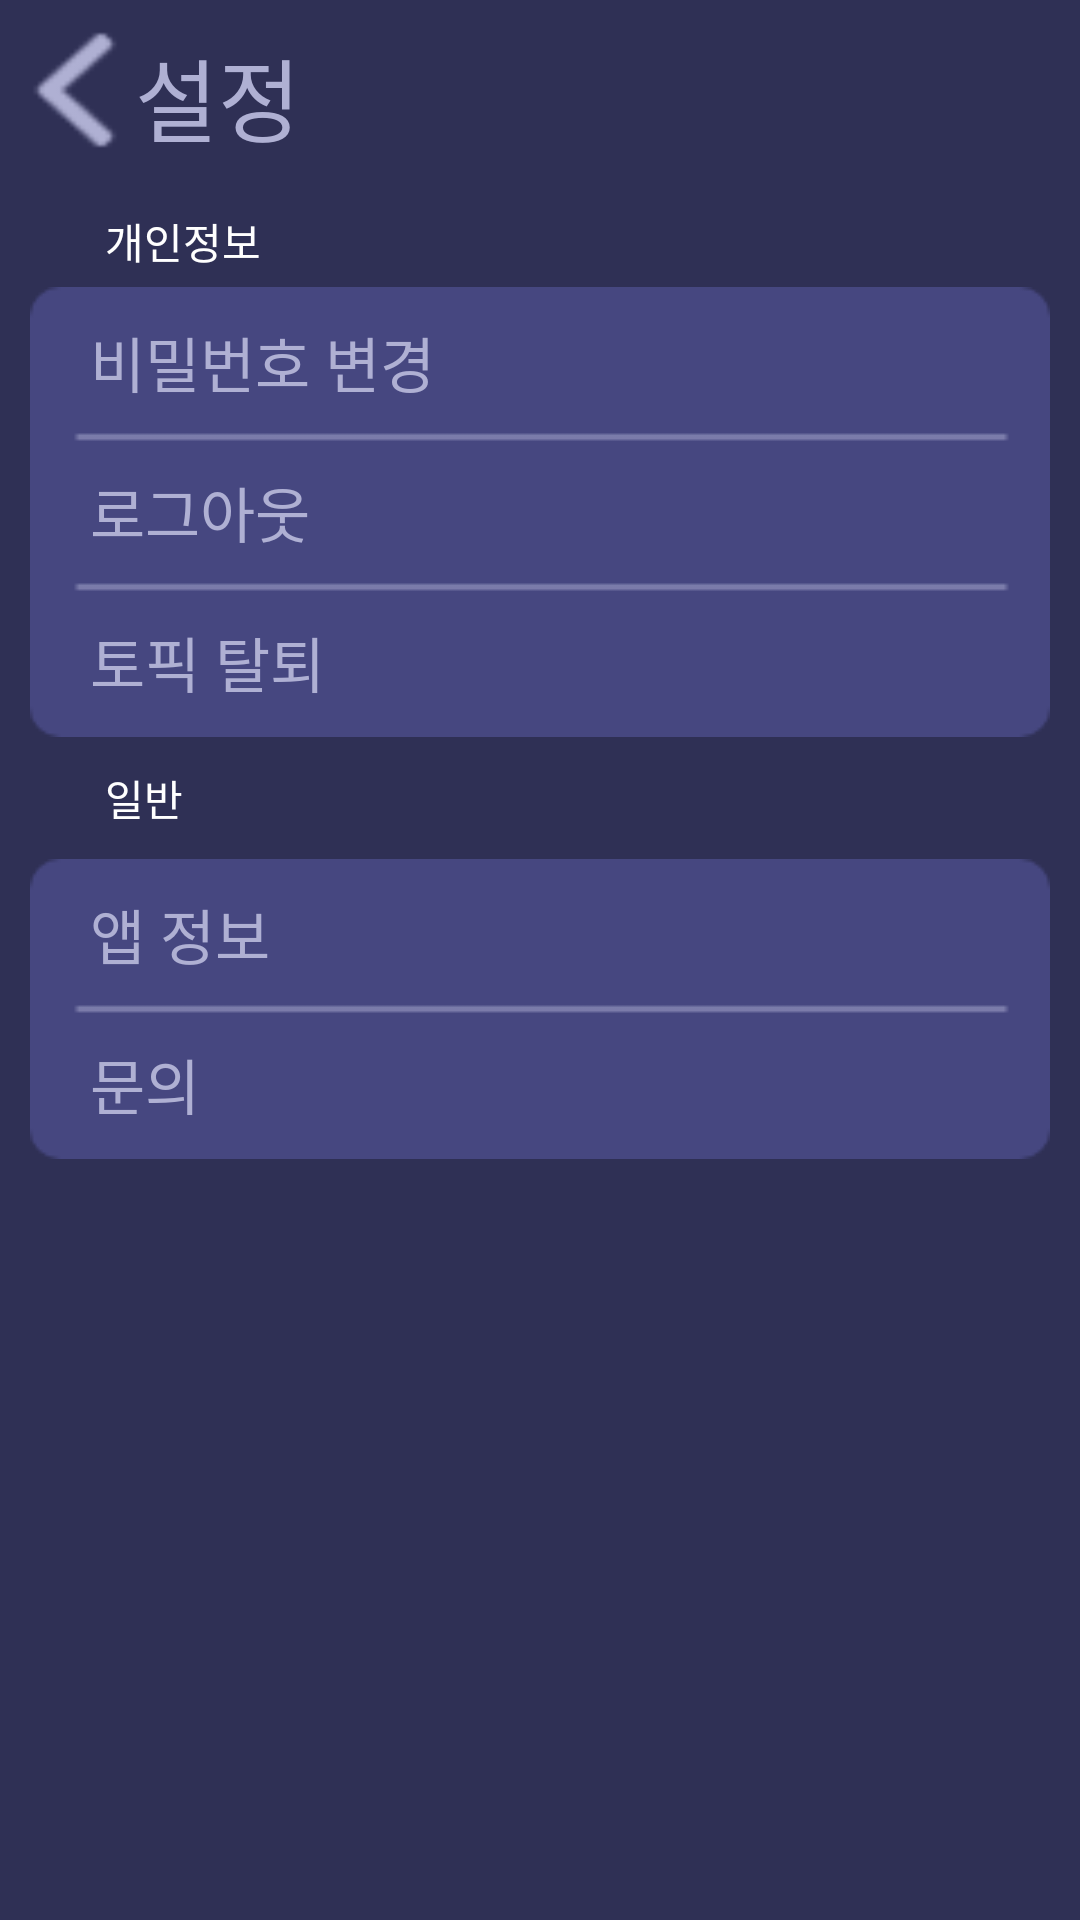

Screen size 1080w x 1920h. Icon name, then its center in pixels as [x,y]:
back: [75,90]
